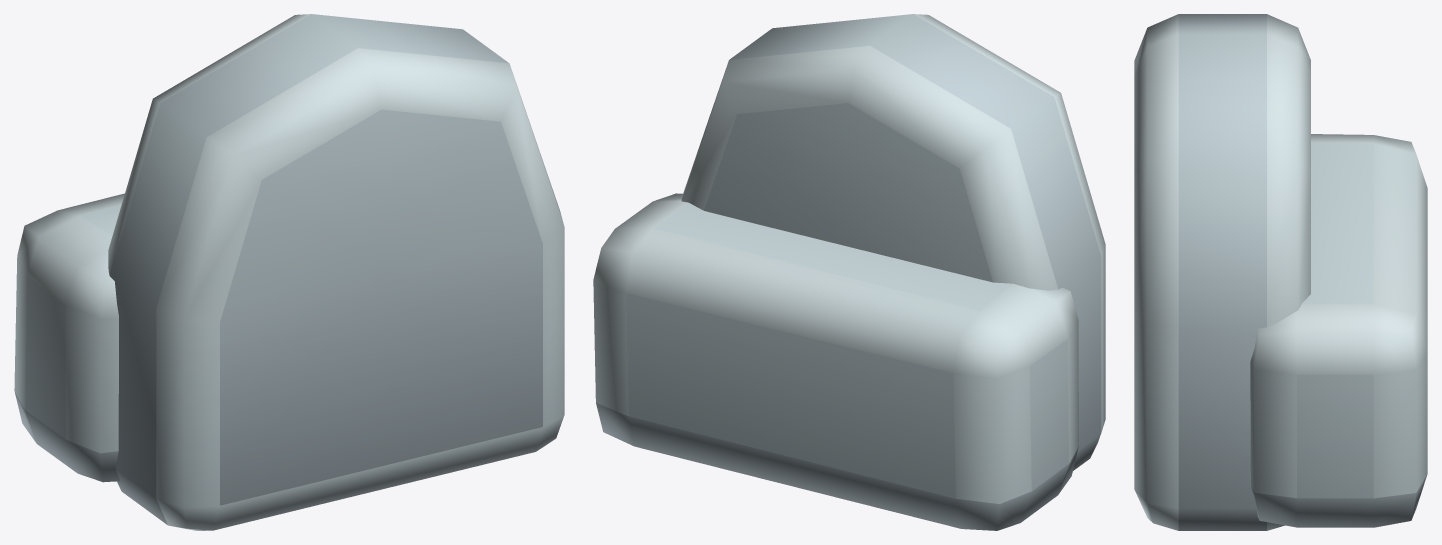
Rendered from fence_short_half_LOD_setup.fbx.
3 views of the same model, side by side, from view 1: azimuth 30°, elevation 25°; view 2: azimuth 150°, elevation 25°; view 3: azimuth 270°, elevation 25° (orthographic). The views are drawn at different scales.
Parts seen in each view (by area): view 1: fence_short_half_LOD0; view 2: fence_short_half_LOD0; view 3: fence_short_half_LOD0.
Boxes of the visible parts, <box> form: fence_short_half_LOD0: <box>14,14,564,530</box>; fence_short_half_LOD0: <box>593,14,1105,530</box>; fence_short_half_LOD0: <box>1134,14,1427,530</box>.
Size of what is drawn, in the model's own units: 56.93 by 52.5 by 33.19.
